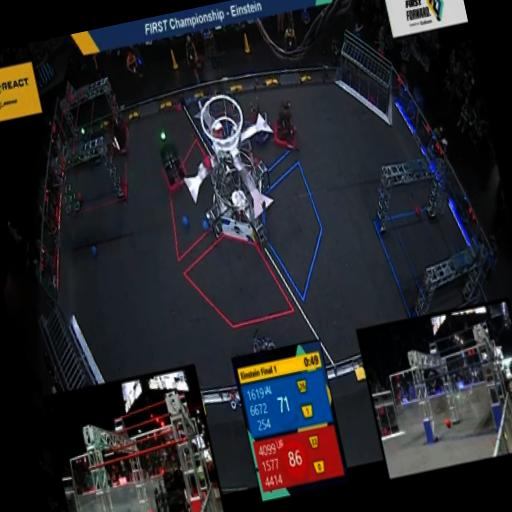robot: (148, 130, 194, 200), (262, 88, 304, 160), (98, 105, 140, 158)
